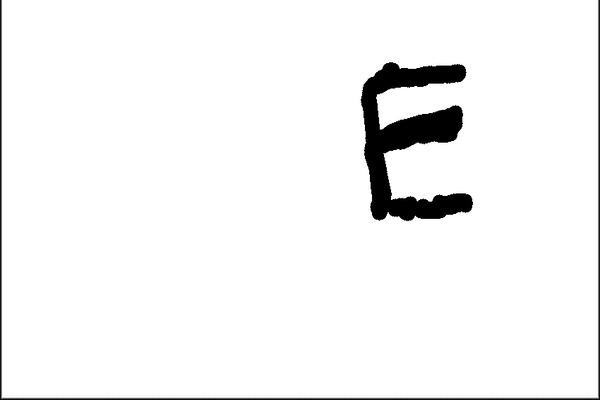E: (353, 58, 475, 218)
